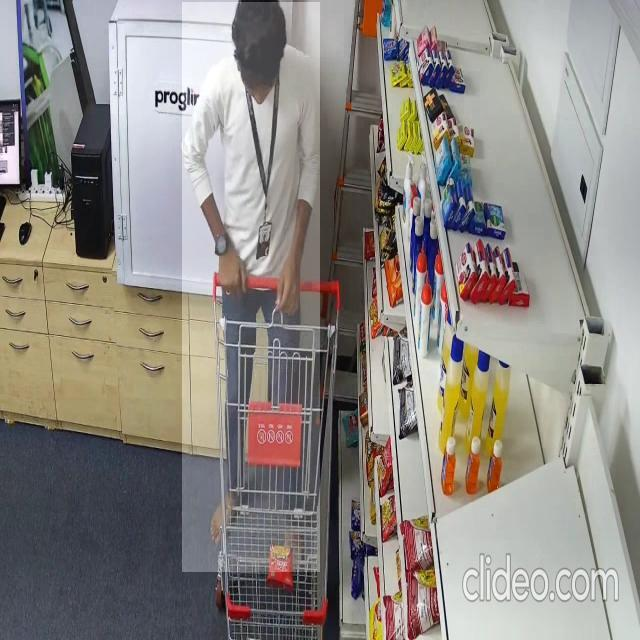normal: (182, 2, 320, 572)
